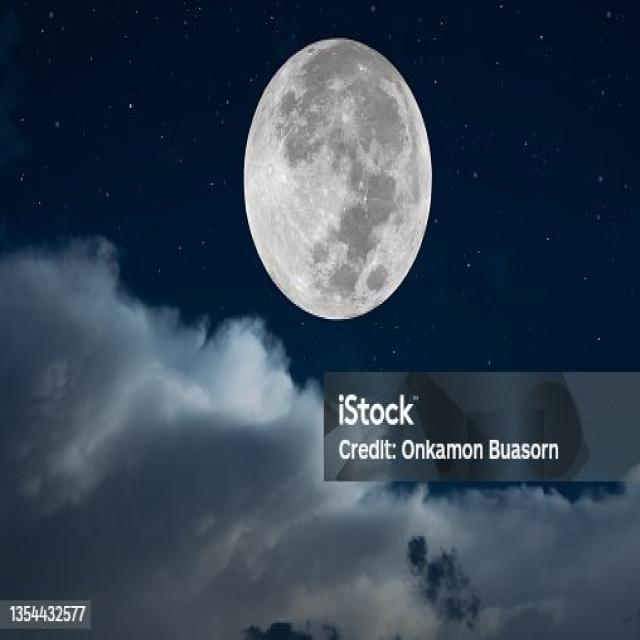moon: (244, 34, 432, 317)
